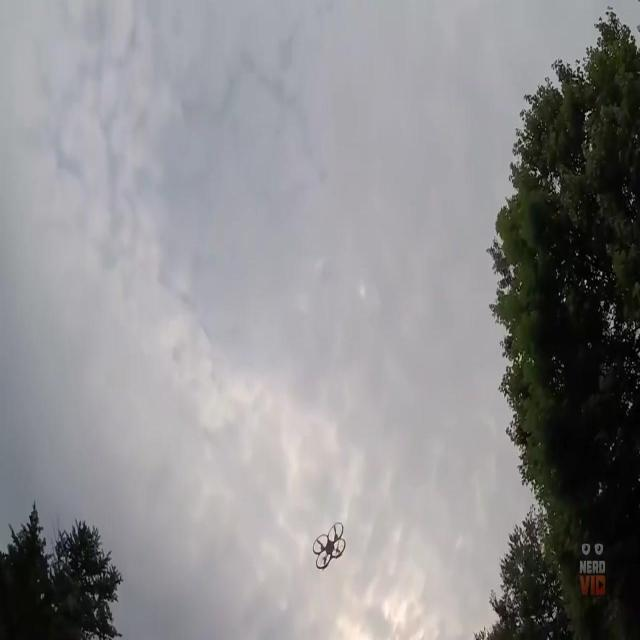drone: (311, 520, 346, 570)
